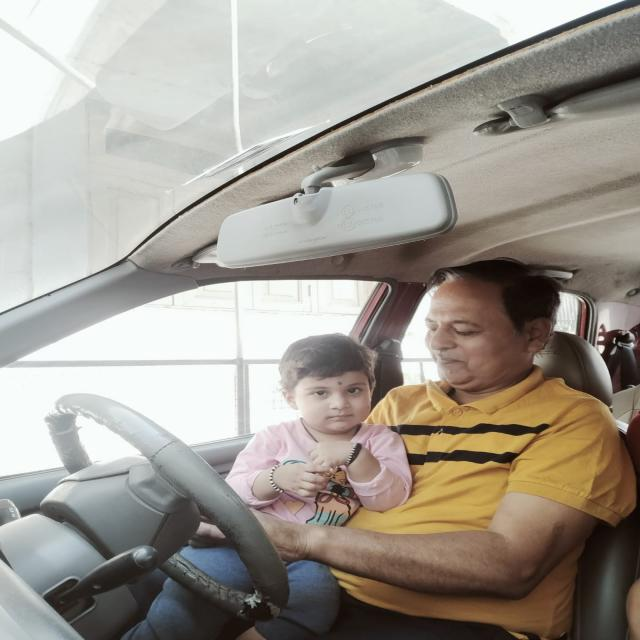child: (270, 324, 386, 441)
person: (414, 253, 567, 418)
